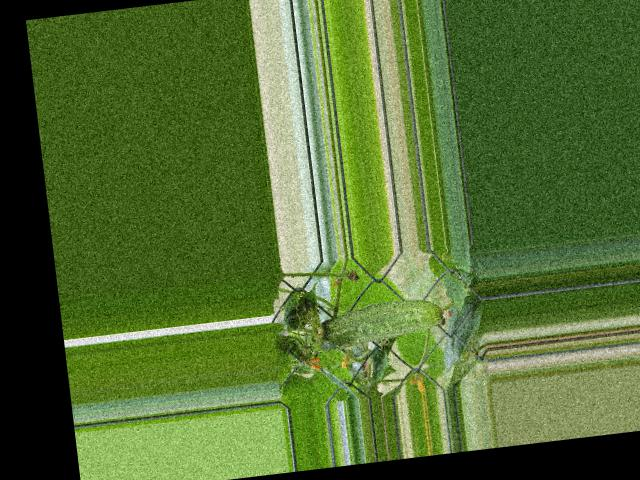cucumber: (309, 295, 453, 351)
